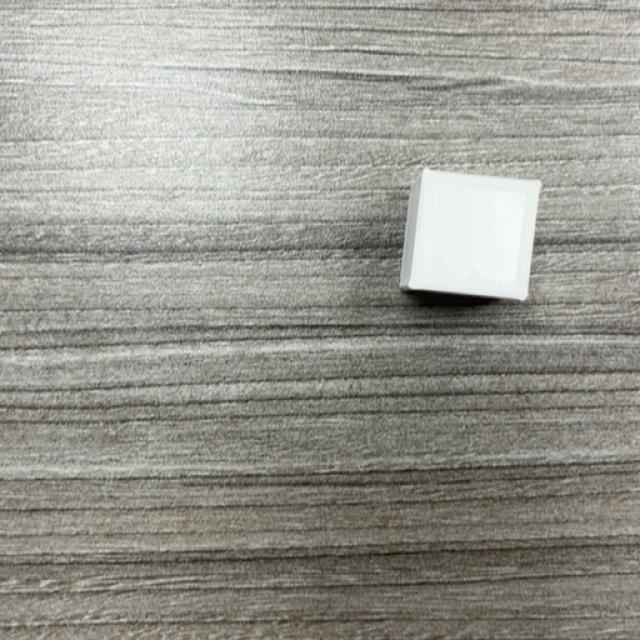Blanco: (399, 169, 541, 302)
